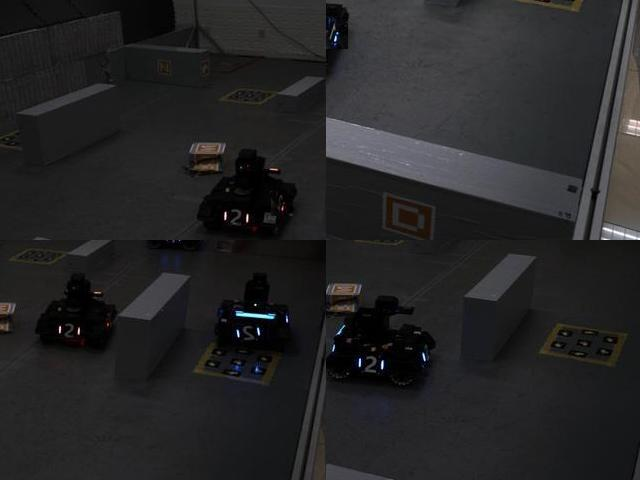armor: (217, 204, 254, 232), (353, 351, 387, 377), (233, 321, 269, 345), (326, 16, 350, 51), (53, 319, 83, 344), (272, 192, 295, 217), (163, 240, 185, 247)
